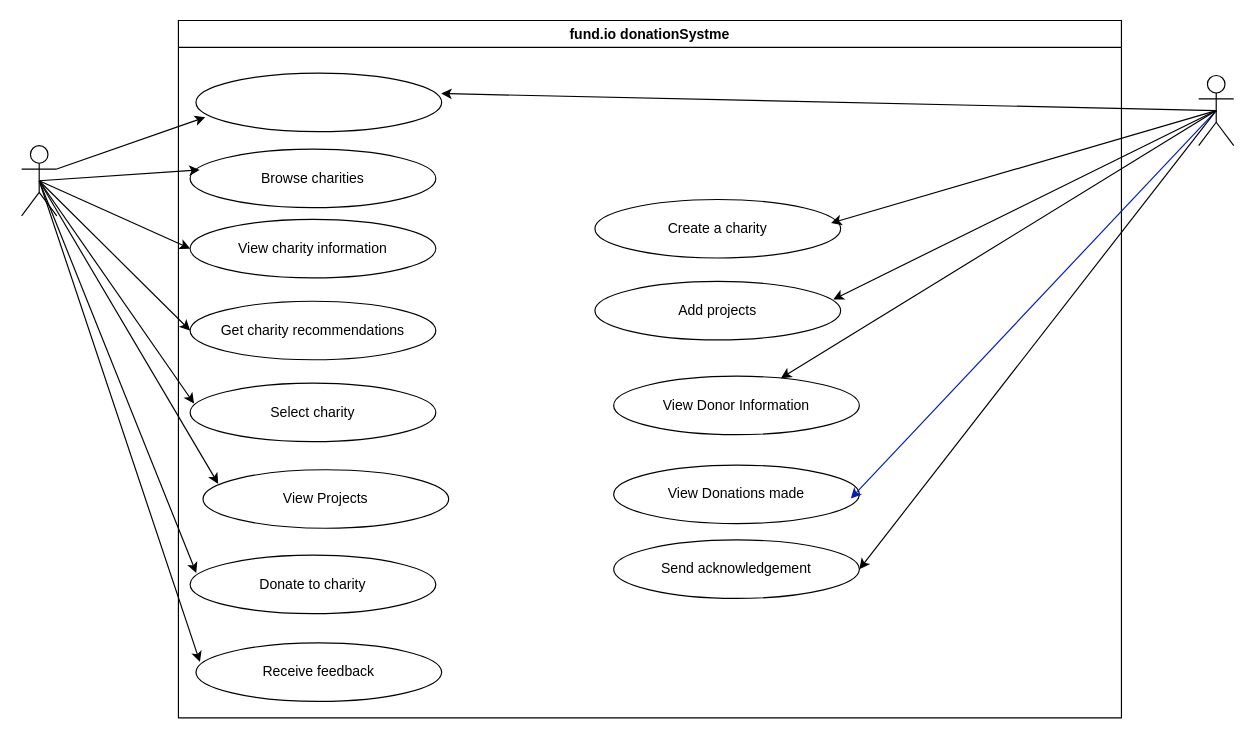
This 1259x738 diagram has some shape labels left out. Here are the shapes that lost their labels. From the top down, the centre of each, then its label:
the point at 318,102: Registration/ login
the point at 1215,110: Charity
the point at 38,180: Donor
